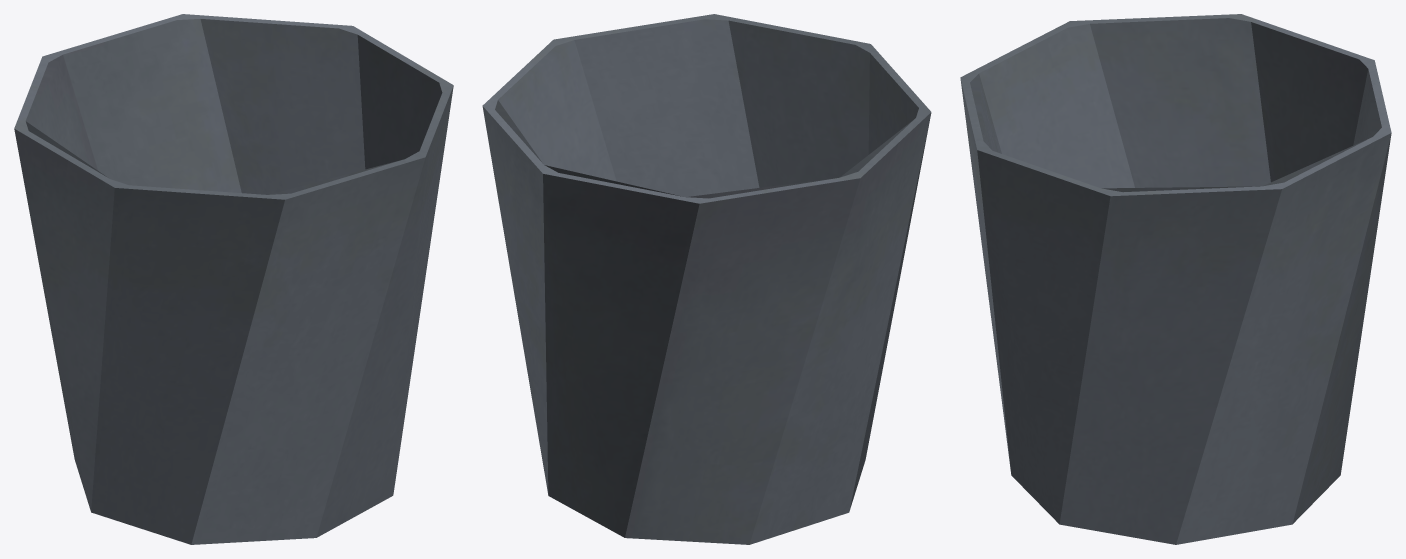
File: trashbin.fbx
3 renders of one model, left to right at view 1: azimuth 30°, elevation 25°; view 2: azimuth 150°, elevation 25°; view 3: azimuth 270°, elevation 25°, orthographic.
Parts seen in each view (by area): view 1: Cylinder; view 2: Cylinder; view 3: Cylinder.
Boxes of the visible parts, left/top/right/bottom form: Cylinder: left=14, top=14, right=453, bottom=544; Cylinder: left=482, top=14, right=931, bottom=544; Cylinder: left=960, top=14, right=1391, bottom=544.
Size of the model in its own units: 262 by 248 by 262.
